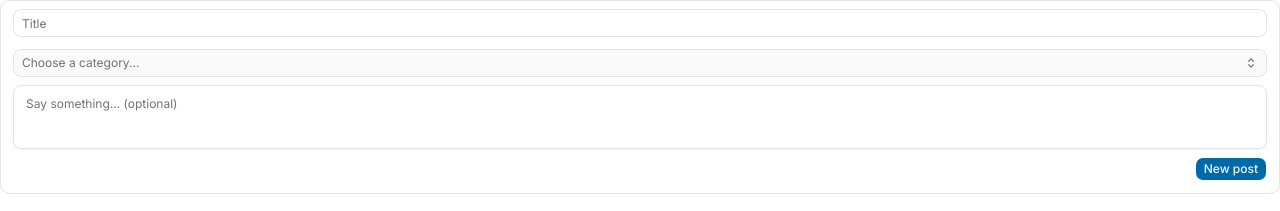
Test: ComposeForm › renders a required category selector with the categories
Click the dropdown labelled "category" at {"x": 81, "y": 63}, box [13, 49, 1267, 77]
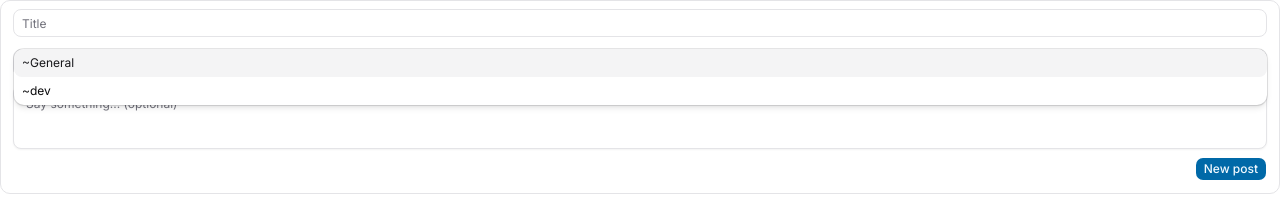
Now the option "~General" is shown, box [14, 49, 1267, 77]
Now the option "~dev" is shown, box [22, 83, 51, 98]
